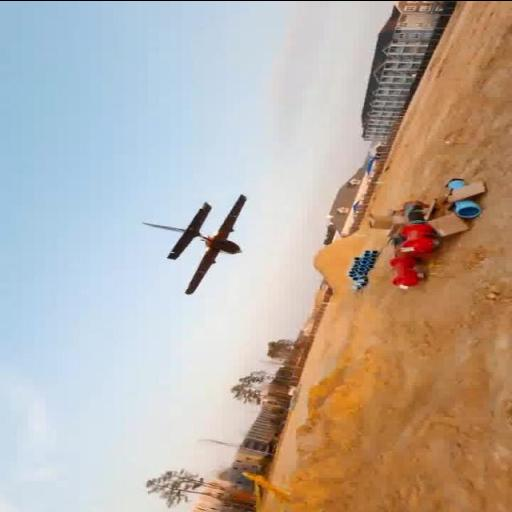uav: (136, 189, 258, 299)
